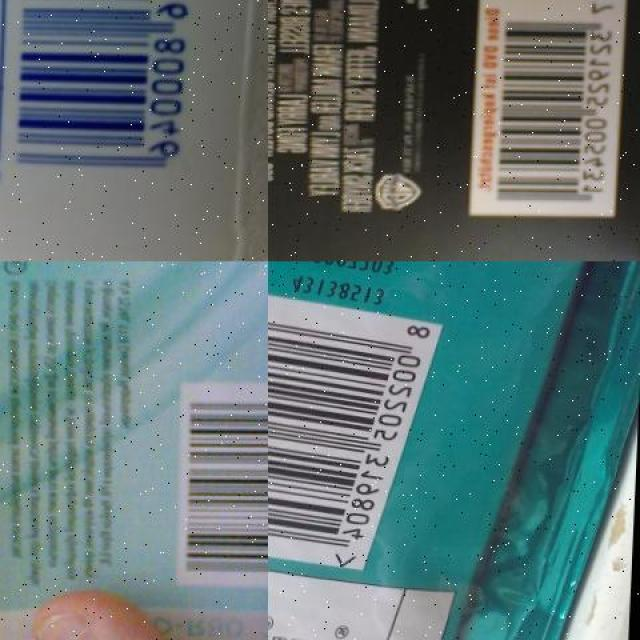Barcode: (268, 286, 447, 570), (4, 0, 212, 188), (472, 0, 625, 215), (176, 379, 268, 589)
